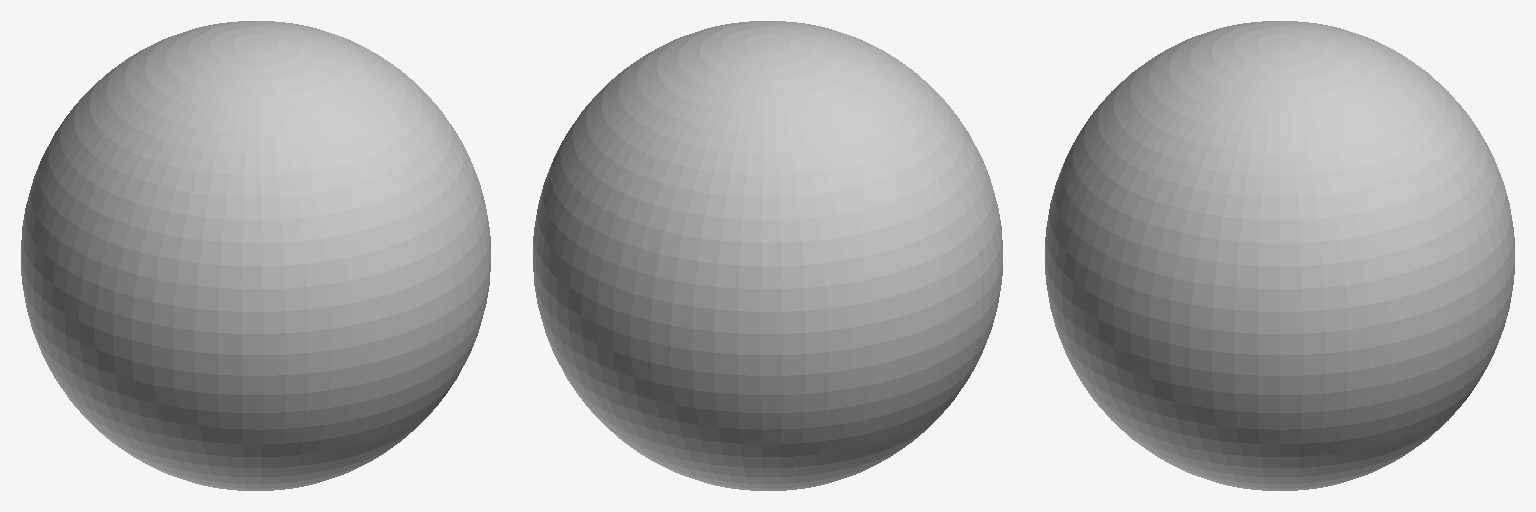
File: gem_type_4.obj
3 renders of one model, left to right at view 1: azimuth 30°, elevation 25°; view 2: azimuth 150°, elevation 25°; view 3: azimuth 270°, elevation 25°, orthographic.
Visible parts, largest first — view 1: gem_type_4; view 2: gem_type_4; view 3: gem_type_4.
Part boxes in pixels (left/top/right/bottom): gem_type_4: left=21, top=21, right=490, bottom=490; gem_type_4: left=533, top=21, right=1002, bottom=490; gem_type_4: left=1045, top=21, right=1514, bottom=490.
Bounding box in the file's own units: 1.4 × 1.4 × 1.4.